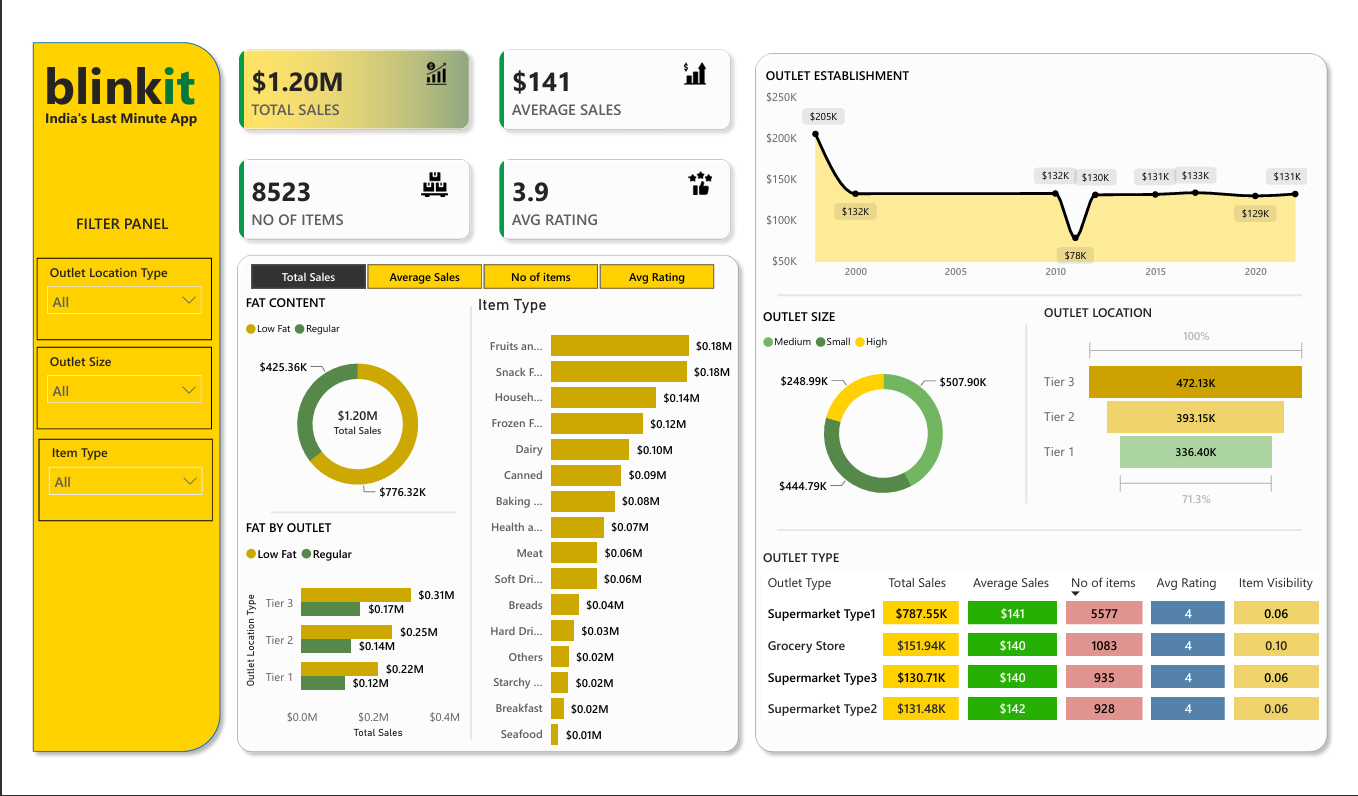

The dashboard page shown, as its layout file describes it:
{"tool":"powerbi","page":{"name":"Page 1","canvas":[1400,800],"ordinal":0},"visuals":[{"type":"shape","box":[0,12.1,218.5,774.8],"z":0},{"type":"textbox","box":[16.1,24.1,186.3,84.5],"z":1000},{"type":"textbox","box":[17.4,85.8,206.4,44.2],"z":2000},{"type":"cardVisual","fields":{"Data":["BlinkIT Grocery Data.Total Sales","BlinkIT Grocery Data.Average Sales","BlinkIT Grocery Data.No of items","BlinkIT Grocery Data.Avg Rating"]},"box":[199.7,0,583.1,260.1],"z":3000},{"type":"shape","box":[218.5,238.6,552.3,548.3],"z":4000},{"type":"slicer","fields":{"Values":["Metrics.Metrics"]},"box":[215.8,250.7,544.2,40.2],"z":5000},{"type":"donutChart","title":"FAT CONTENT","fields":{"Y":["BlinkIT Grocery Data.Total Sales"],"Category":["BlinkIT Grocery Data.Item Fat Content"]},"box":[230.6,289.5,249.3,233.2],"z":6000},{"type":"cardVisual","fields":{"Data":["BlinkIT Grocery Data.Total Sales"]},"box":[297.6,390.1,115.3,72.4],"z":7000},{"type":"clusteredBarChart","title":"FAT BY OUTLET","fields":{"Y":["BlinkIT Grocery Data.Total Sales"],"Category":["BlinkIT Grocery Data.Outlet Location Type"],"Series":["BlinkIT Grocery Data.Item Fat Content"]},"box":[230.6,529.5,250.7,238.6],"z":8000},{"type":"shape","box":[262.7,513.4,198.4,18.8],"z":9000},{"type":"shape","box":[459.8,303,33.5,462.5],"z":10000},{"type":"barChart","title":"Item Type","fields":{"Y":["BlinkIT Grocery Data.Total Sales"],"Category":["BlinkIT Grocery Data.Item Type"]},"box":[478.6,290.9,281.5,496],"z":11000},{"type":"shape","box":[770.8,24.1,628.7,762.7],"z":12000},{"type":"lineChart","title":"OUTLET ESTABLISHMENT","fields":{"Category":["BlinkIT Grocery Data.Outlet Establishment Year"],"Y":["BlinkIT Grocery Data.Total Sales"]},"box":[785.5,46.9,587.1,234.6],"z":13000},{"type":"shape","box":[803,281.5,560.3,18.8],"z":14000},{"type":"donutChart","title":"OUTLET SIZE","fields":{"Y":["BlinkIT Grocery Data.Total Sales"],"Category":["BlinkIT Grocery Data.Outlet Size"]},"box":[782.8,304.3,266.8,225.2],"z":15000},{"type":"shape","box":[1052.3,321.7,33.5,191.7],"z":16000},{"type":"funnel","title":"OUTLET LOCATION","fields":{"Y":["Sum(BlinkIT Grocery Data.Sales)"],"Category":["BlinkIT Grocery Data.Outlet Location Type"]},"box":[1083.1,300.3,289.5,222.5],"z":17000},{"type":"shape","box":[803,532.2,560.3,18.8],"z":18000},{"type":"pivotTable","title":"OUTLET TYPE","fields":{"Rows":["BlinkIT Grocery Data.Outlet Type"],"Values":["BlinkIT Grocery Data.Total Sales","BlinkIT Grocery Data.Average Sales","BlinkIT Grocery Data.No of items","BlinkIT Grocery Data.Avg Rating","Avg(BlinkIT Grocery Data.Item Visibility)"]},"box":[782.8,561.7,605.9,203.8],"z":19000},{"type":"slicer","fields":{"Values":["BlinkIT Grocery Data.Outlet Location Type"]},"box":[13.4,250.7,186.3,88.5],"z":20000},{"type":"slicer","fields":{"Values":["BlinkIT Grocery Data.Outlet Size"]},"box":[13.4,345.8,186.3,88.5],"z":21000},{"type":"slicer","fields":{"Values":["BlinkIT Grocery Data.Item Type"]},"box":[14.7,443.7,186.3,88.5],"z":22000},{"type":"textbox","box":[49.6,198.4,118,40.2],"z":23000}]}

Visuals, with their boxes in screenshot pixels (x1, y1, x2, y2), scaled from the page's 1400x800 canvas onto the 1358x796 screenshot:
shape: l=0, t=12, r=212, b=783
textbox: l=16, t=24, r=196, b=108
textbox: l=17, t=85, r=217, b=129
cardVisual - BlinkIT Grocery Data.Total Sales x BlinkIT Grocery Data.Average Sales: l=194, t=0, r=759, b=259
shape: l=212, t=237, r=748, b=783
slicer - Metrics.Metrics: l=209, t=249, r=737, b=289
"FAT CONTENT" donutChart: l=224, t=288, r=466, b=520
cardVisual - BlinkIT Grocery Data.Total Sales: l=289, t=388, r=401, b=460
"FAT BY OUTLET" clusteredBarChart: l=224, t=527, r=467, b=764
shape: l=255, t=511, r=447, b=530
shape: l=446, t=301, r=479, b=762
"Item Type" barChart: l=464, t=289, r=737, b=783
shape: l=748, t=24, r=1357, b=783
"OUTLET ESTABLISHMENT" lineChart: l=762, t=47, r=1331, b=280
shape: l=779, t=280, r=1322, b=299
"OUTLET SIZE" donutChart: l=759, t=303, r=1018, b=527
shape: l=1021, t=320, r=1053, b=511
"OUTLET LOCATION" funnel: l=1051, t=299, r=1331, b=520
shape: l=779, t=530, r=1322, b=548
"OUTLET TYPE" pivotTable: l=759, t=559, r=1347, b=762
slicer - BlinkIT Grocery Data.Outlet Location Type: l=13, t=249, r=194, b=338
slicer - BlinkIT Grocery Data.Outlet Size: l=13, t=344, r=194, b=432
slicer - BlinkIT Grocery Data.Item Type: l=14, t=441, r=195, b=530
textbox: l=48, t=197, r=163, b=237
